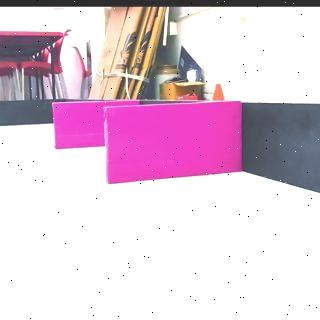xparking: (108, 108, 242, 176), (55, 101, 102, 148)
